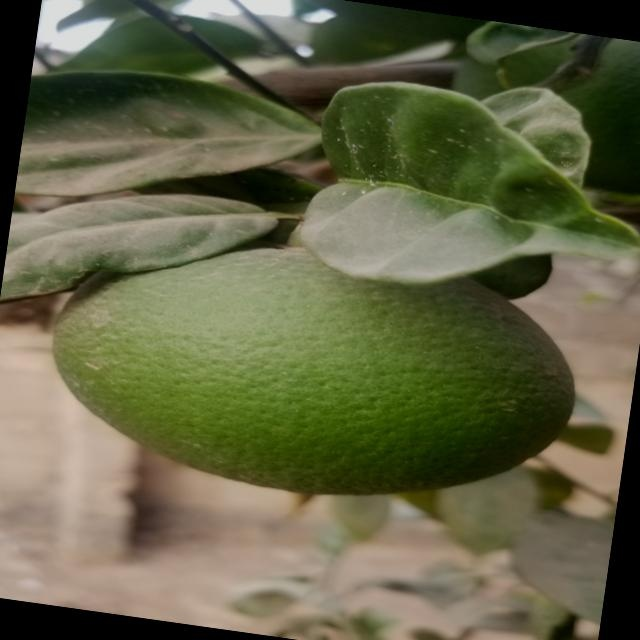agrume: (34, 220, 588, 528)
